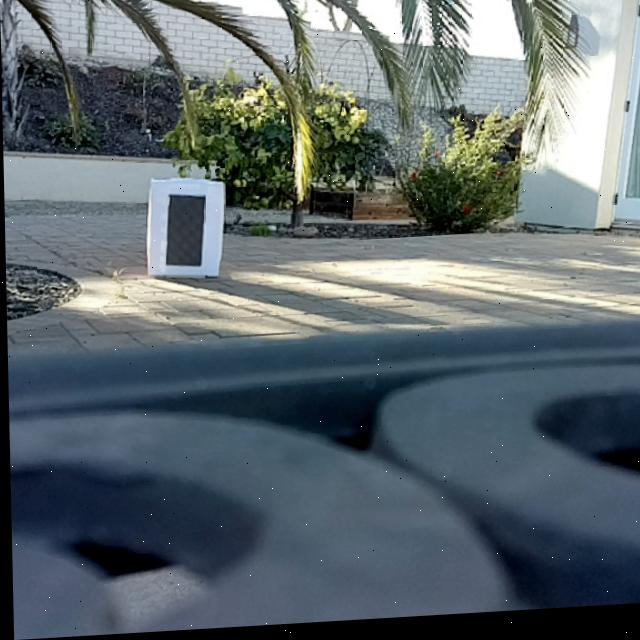led: (164, 195, 204, 271)
